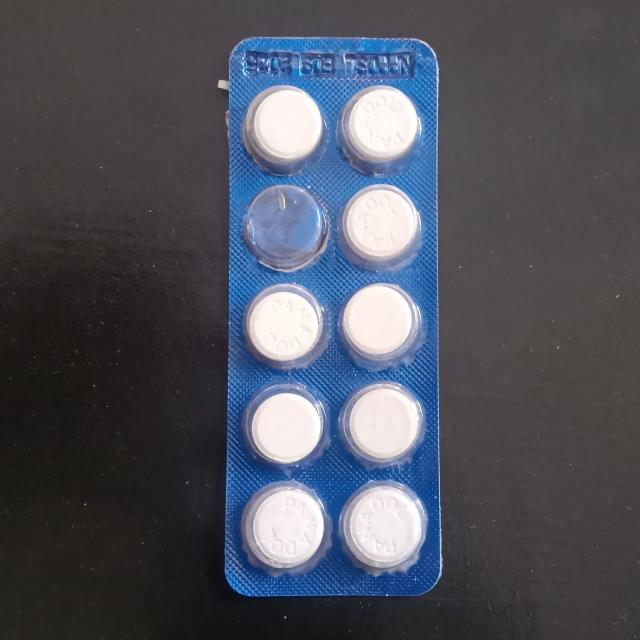defect: (235, 181, 339, 273)
